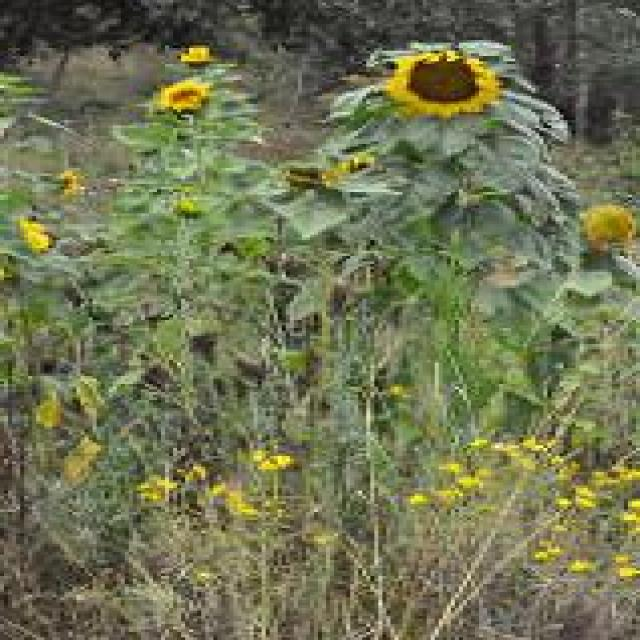sunflower: (387, 52, 499, 113), (155, 78, 207, 110)
